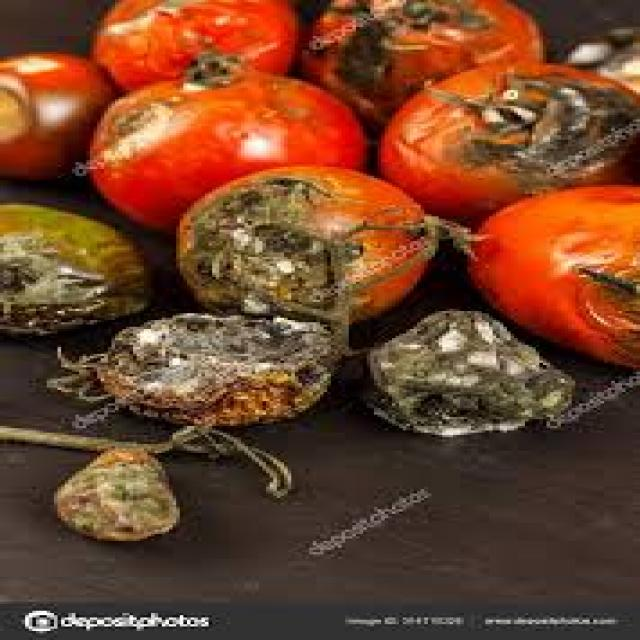organic waste: (83, 41, 363, 234), (169, 162, 471, 327), (381, 59, 637, 216), (453, 182, 636, 370), (39, 309, 334, 421), (291, 0, 543, 124), (352, 302, 572, 435), (0, 419, 288, 496), (86, 0, 295, 97), (0, 200, 147, 335), (0, 45, 111, 175), (50, 442, 180, 538), (561, 25, 636, 90)
